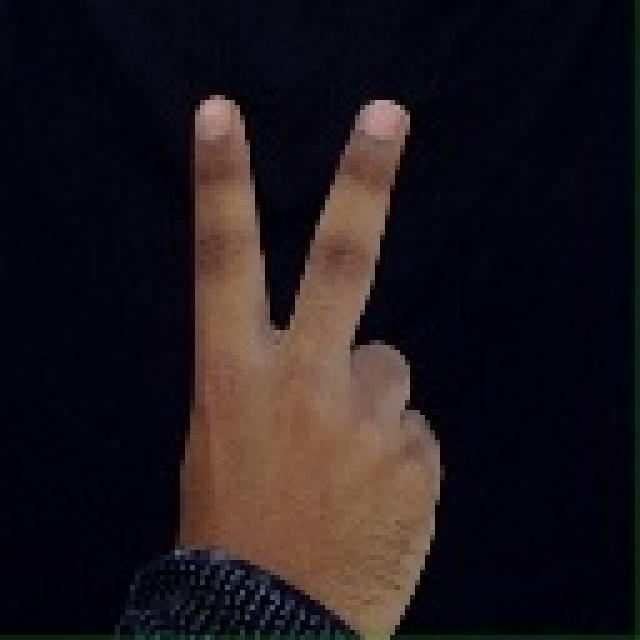Alphabet-V: (153, 47, 469, 619)
